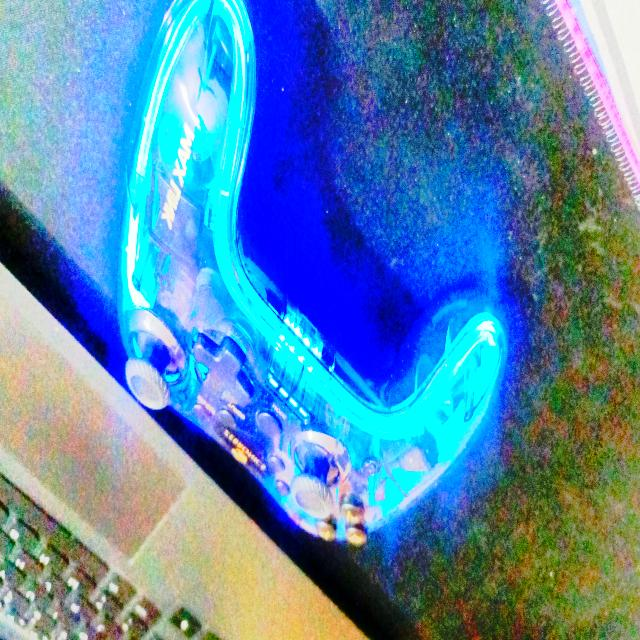gamepad: (114, 0, 508, 550)
